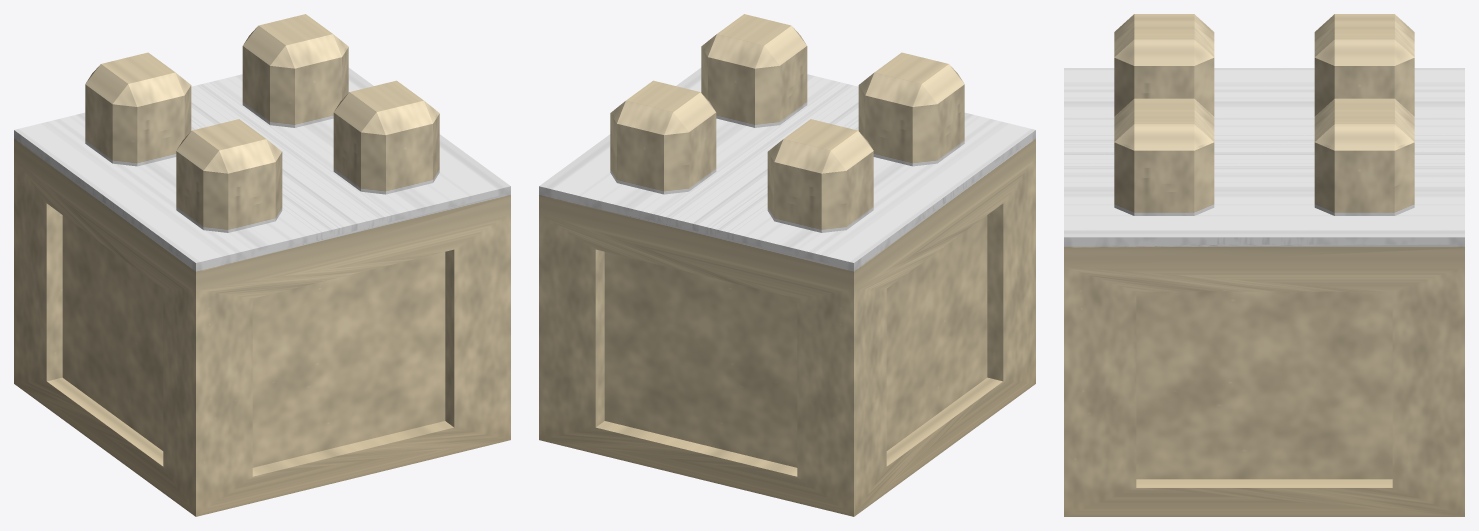
3 renders of one model, left to right at view 1: azimuth 30°, elevation 25°; view 2: azimuth 150°, elevation 25°; view 3: azimuth 270°, elevation 25°, orthographic. The views are drawn at different scales.
Visible parts, largest first — view 1: wall; view 2: wall; view 3: wall.
Boxes of the visible parts, x1,y1,x2,y2 form: wall: [14, 14, 510, 516]; wall: [539, 14, 1035, 516]; wall: [1064, 14, 1464, 516].
Bounding box in the file's own units: 1 × 1 × 1.
Materials: 1 (1 with a texture image).
